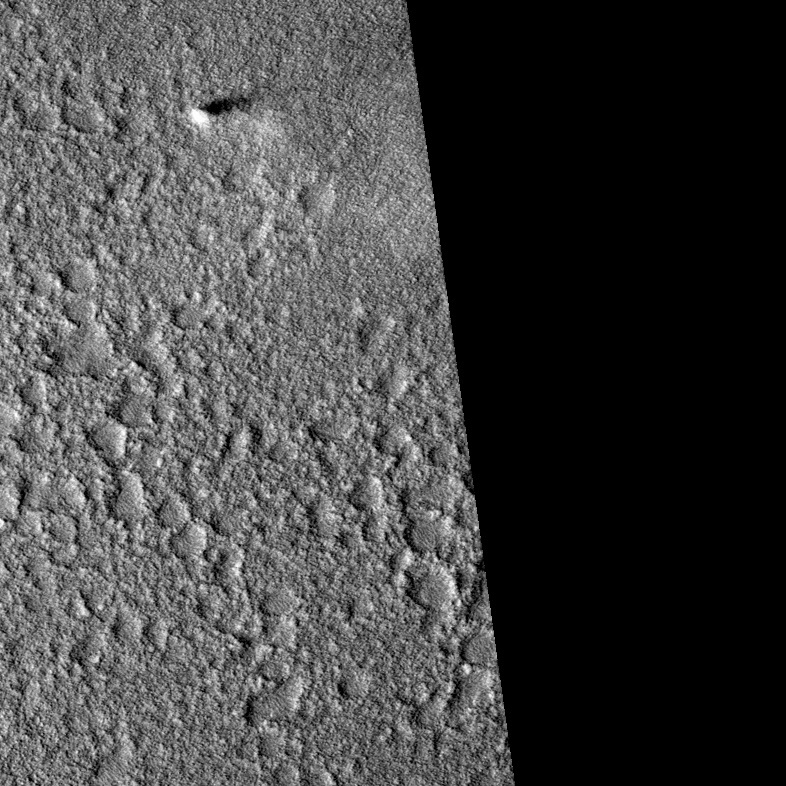dust_devil: (187, 90, 264, 132)
